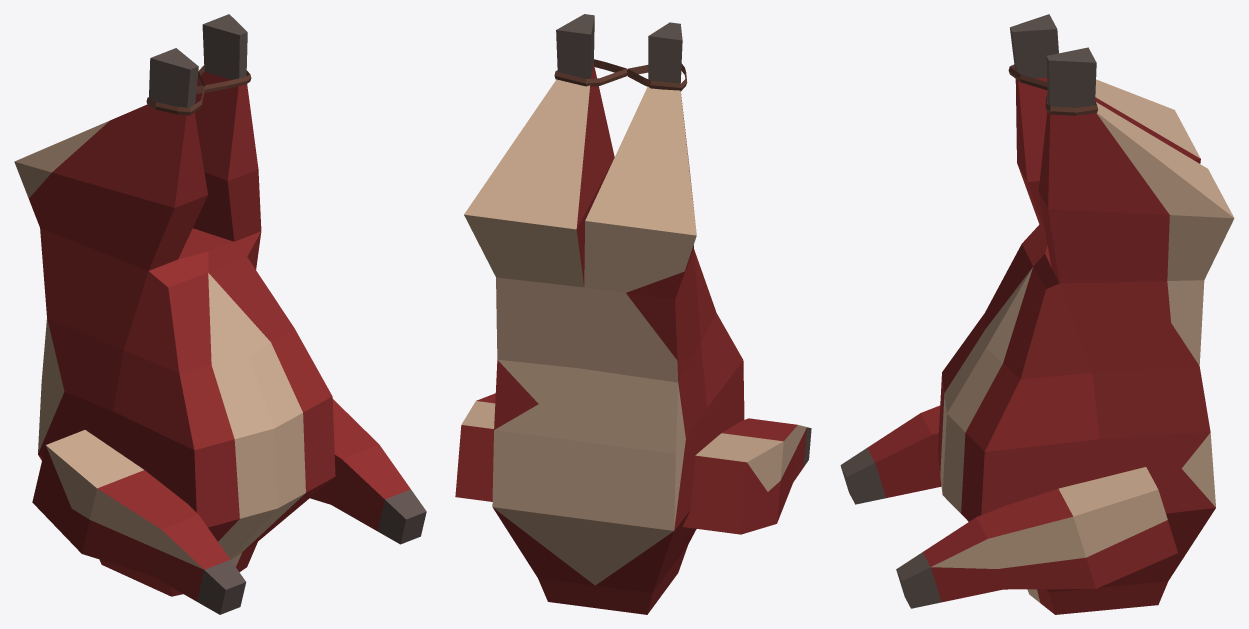
Rendered from cow_carcass-meat.fbx.
3 views of the same model, side by side, from view 1: azimuth 30°, elevation 25°; view 2: azimuth 150°, elevation 25°; view 3: azimuth 270°, elevation 25° (orthographic). The views are drawn at different scales.
Parts seen in each view (by area): view 1: cow_carcass-meat; view 2: cow_carcass-meat; view 3: cow_carcass-meat.
Part boxes in pixels (<box>): cow_carcass-meat: <box>14,14,426,614</box>; cow_carcass-meat: <box>455,14,811,614</box>; cow_carcass-meat: <box>840,14,1234,614</box>.
Bounding box in the file's own units: 50.98 × 89.45 × 57.74.
